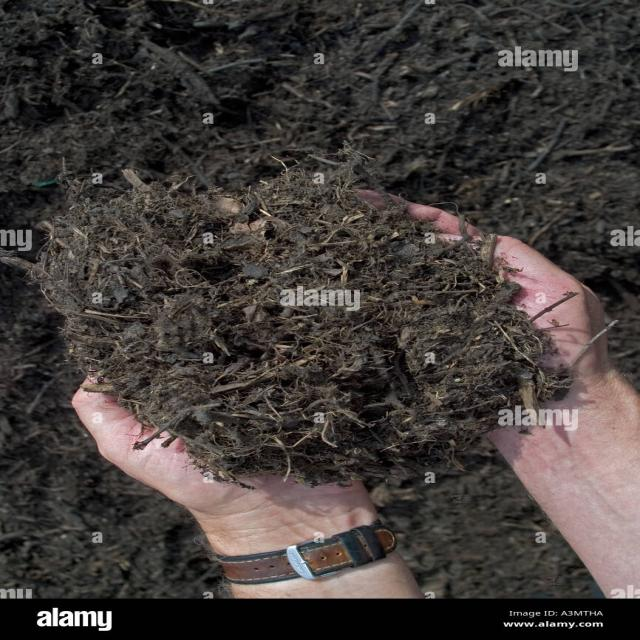materia_organica: (144, 119, 489, 542)
